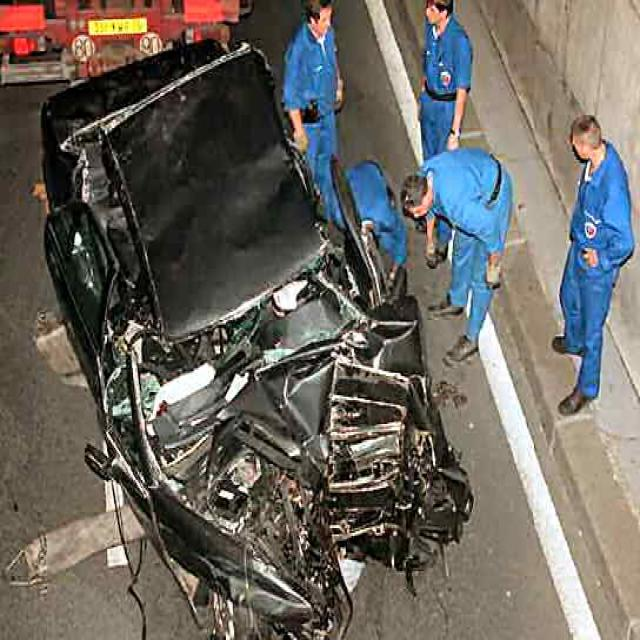crush: (40, 42, 475, 640)
